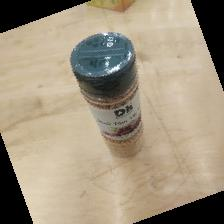TayNinh_green: (70, 32, 144, 160)
